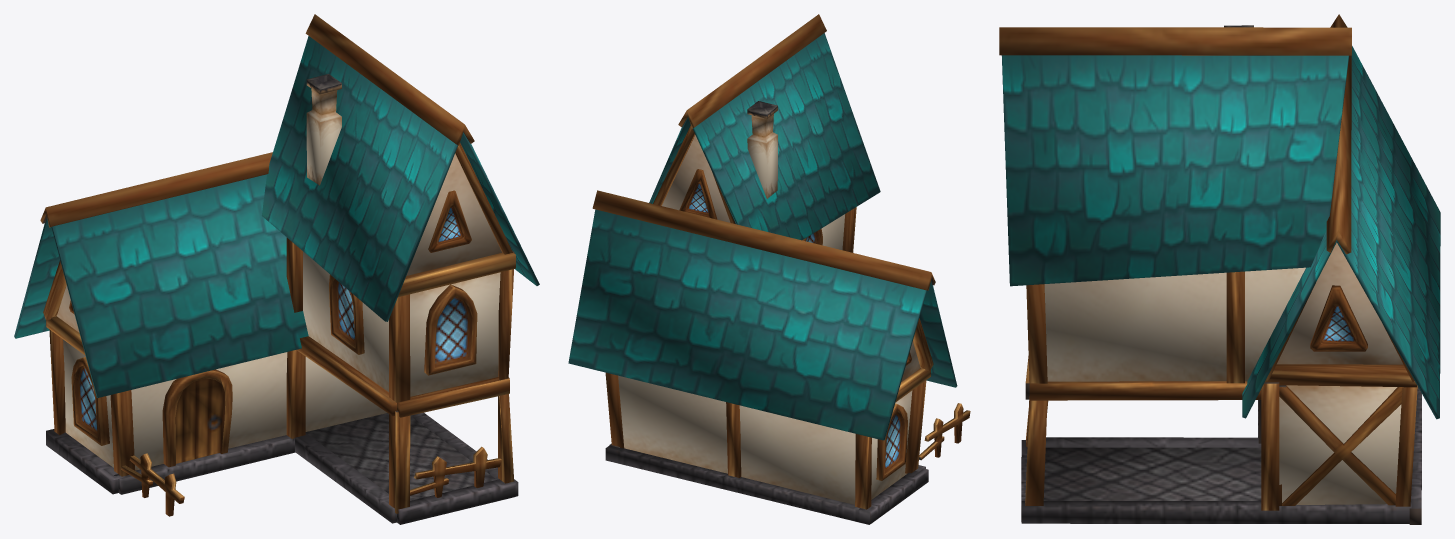
File: building_2_1.FBX
3 views of the same model, side by side, from view 1: azimuth 30°, elevation 25°; view 2: azimuth 150°, elevation 25°; view 3: azimuth 270°, elevation 25° (orthographic). The views are drawn at different scales.
Visible parts, largest first — view 1: building_2_1; view 2: building_2_1; view 3: building_2_1.
Part boxes in pixels (box(x1,y1,x2,y2)): building_2_1: box(14, 14, 539, 524); building_2_1: box(568, 14, 970, 524); building_2_1: box(999, 14, 1440, 524).
Size of the model in its own units: 343 by 338 by 293.
